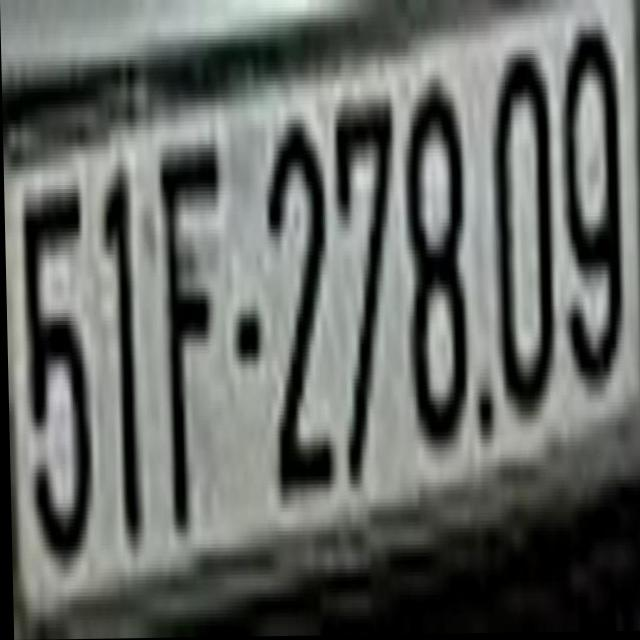0: (494, 56, 554, 417)
1: (98, 161, 141, 561)
2: (261, 97, 335, 509)
5: (16, 170, 91, 570)
7: (333, 92, 401, 512)
8: (401, 68, 470, 469)
9: (559, 24, 625, 405)
F: (157, 130, 224, 541)
